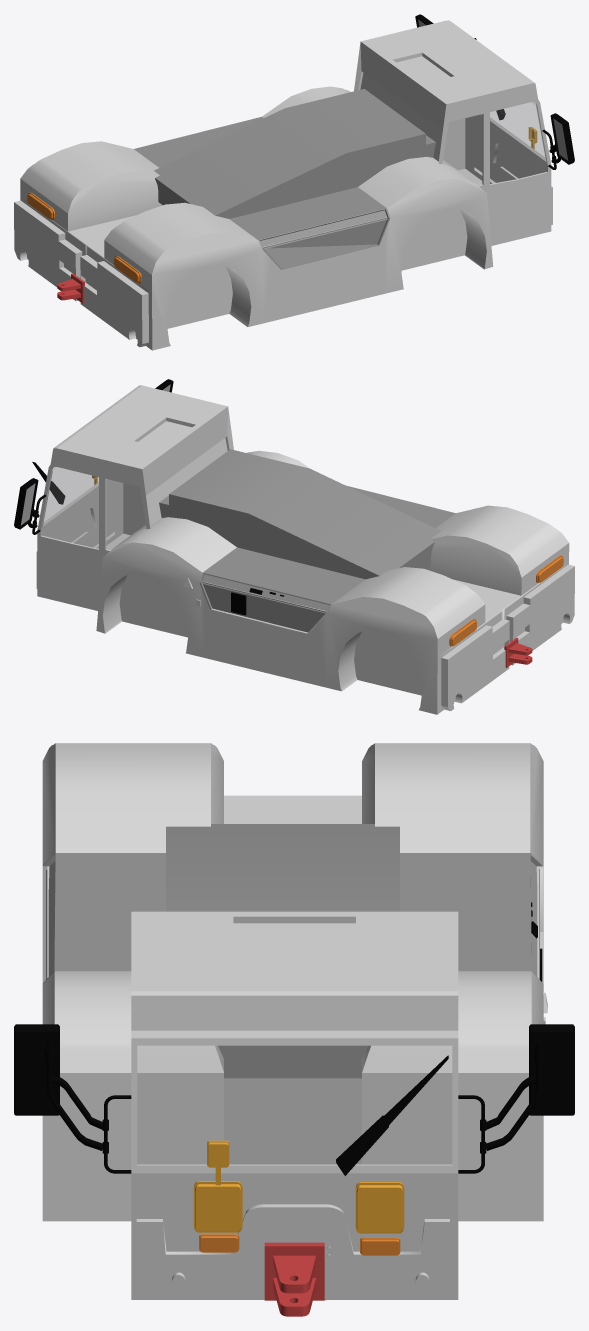
File: ChasisV1.fbx
The picture shows the model from 3 angles, top to bottom: view 1: azimuth 30°, elevation 25°; view 2: azimuth 150°, elevation 25°; view 3: azimuth 270°, elevation 25°; orthographic projection. The views are drawn at different scales.
Parts seen in each view (by area): view 1: chasis_MESH; view 2: chasis_MESH; view 3: chasis_MESH.
Boxes of the visible parts, x1,y1,x2,y2 form: chasis_MESH: (14, 14, 574, 350); chasis_MESH: (14, 379, 574, 714); chasis_MESH: (14, 743, 574, 1316).
Bounding box in the file's own units: 552 × 165 × 288.
